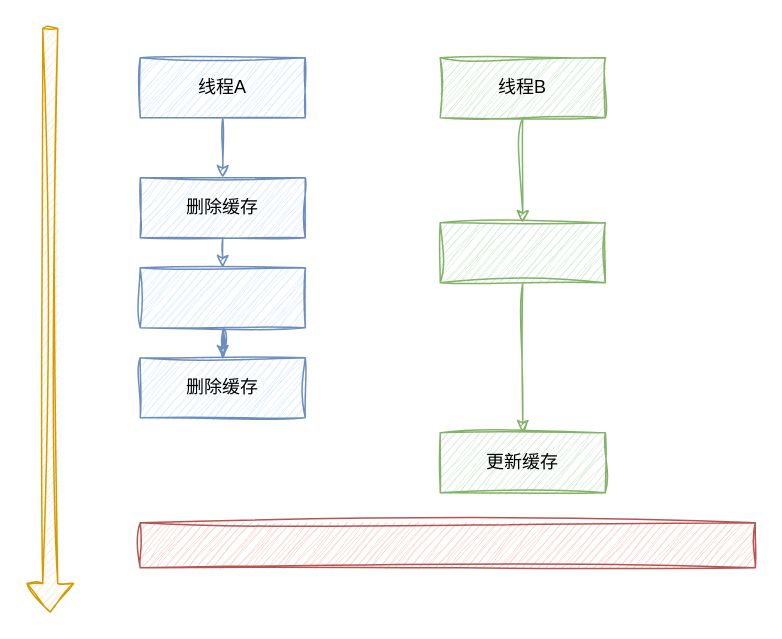
Image size: 782x639. Some labels were removed from this diagram. Here are the shapes that lost their labels. From the top down, the box of each, then its label:
(439, 221, 605, 283): 读取数据库
(139, 266, 305, 328): 更新数据库
(139, 521, 755, 568): 双删无法保证最终一致性
